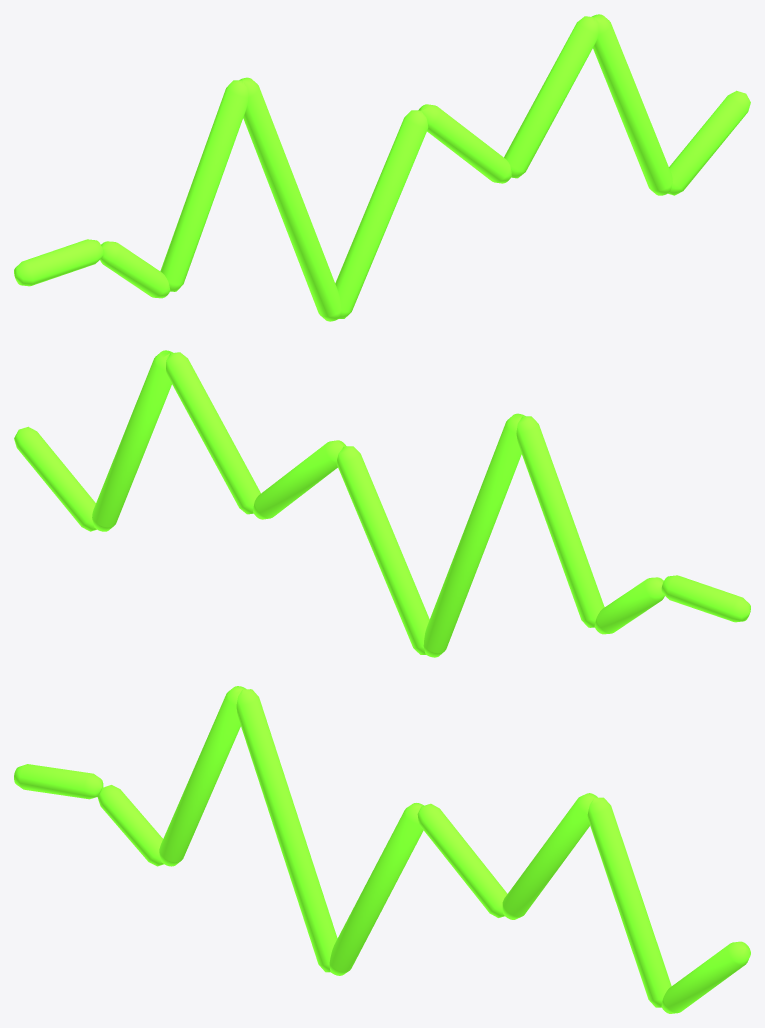
Rendered from grabber_signal.glb.
3 renders of one model, top to bottom at view 1: azimuth 30°, elevation 25°; view 2: azimuth 150°, elevation 25°; view 3: azimuth 330°, elevation 25°, orthographic.
Parts seen in each view (by area): view 1: grabber_signal / material batches; view 2: grabber_signal / material batches; view 3: grabber_signal / material batches.
Part boxes in pixels (x1=…): grabber_signal / material batches: x1=14, y1=14, x2=750, y2=321; grabber_signal / material batches: x1=14, y1=350, x2=750, y2=657; grabber_signal / material batches: x1=14, y1=686, x2=750, y2=1013.
Size of the model in its own units: 1.36 by 0.461 by 0.042.
